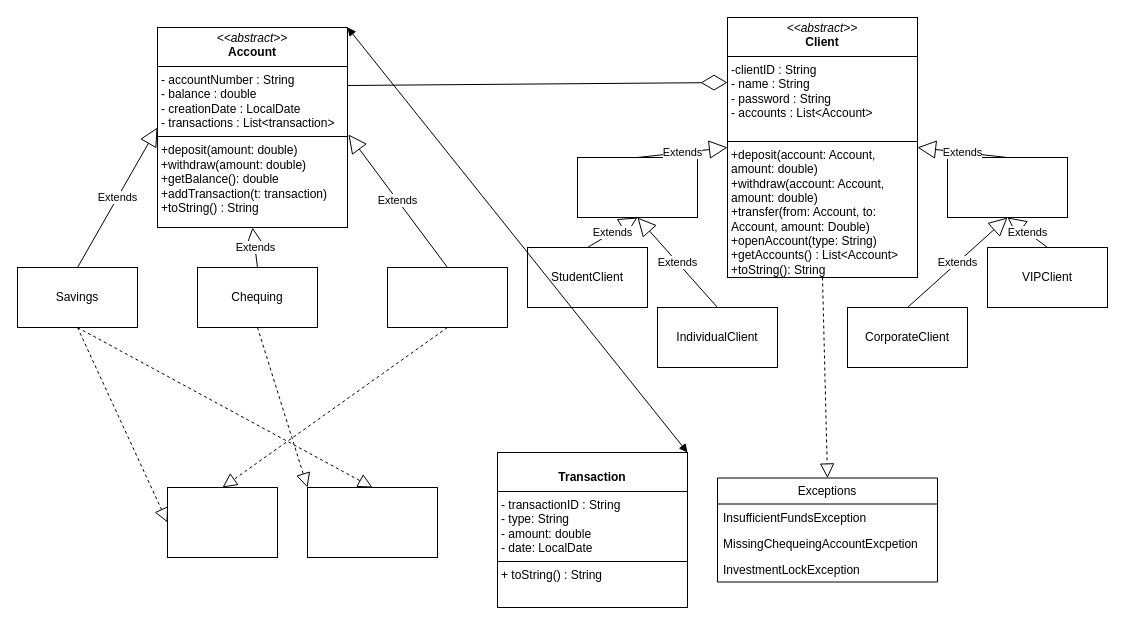
This 1125x625 diagram has some shape labels left out. The shapes that lost their labels are listed below. From the top down, each one's centre as x and y in pixels, then its label:
At pixel 637 187: "StandardClient".
At pixel 1007 187: "PremiumClient".
At pixel 447 297: "Investments".
At pixel 222 522: "«interface» InterestBearing +applyInterest()".
At pixel 372 522: "«interface» Maintainable +applyMonthlyFee()".
